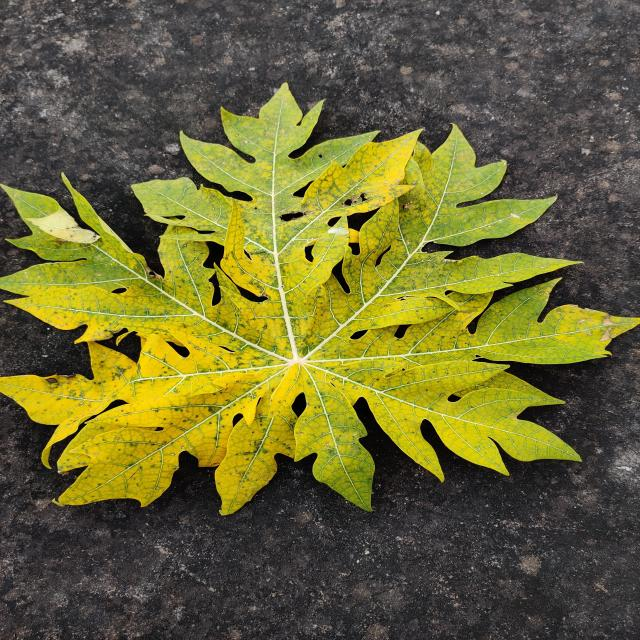fasiation: (2, 84, 638, 514)
